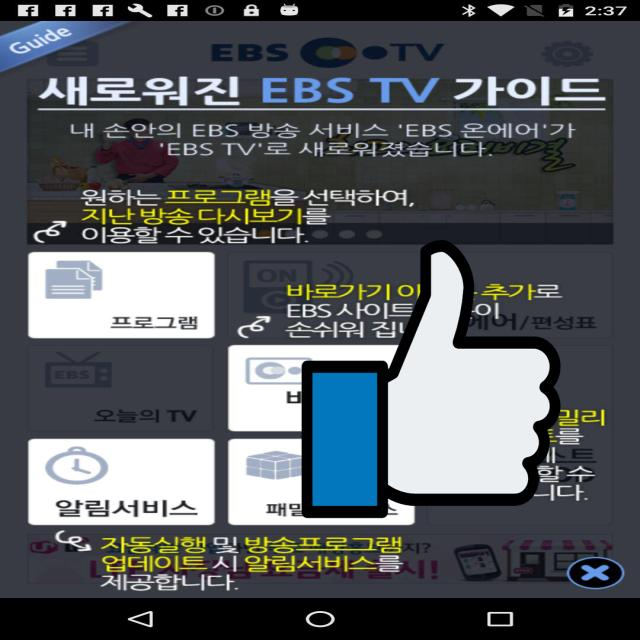privacy zuckering: (302, 234, 560, 524)
